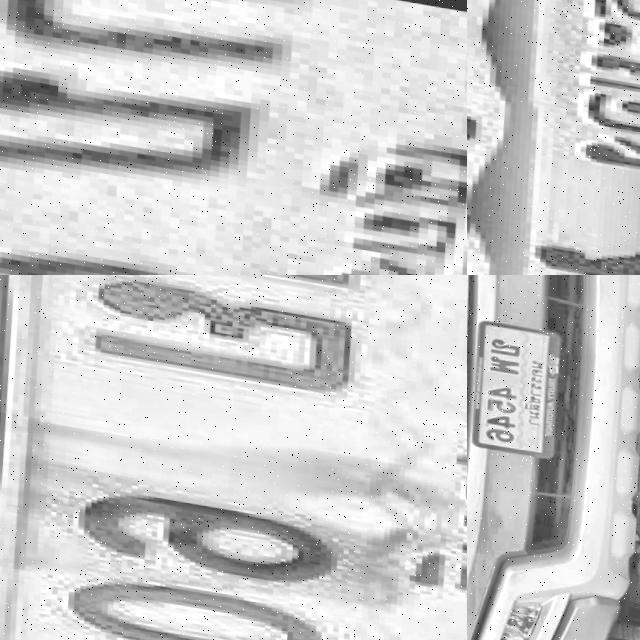license-plate: (0, 275, 467, 640), (0, 0, 467, 275), (467, 0, 640, 275), (467, 309, 565, 453)
